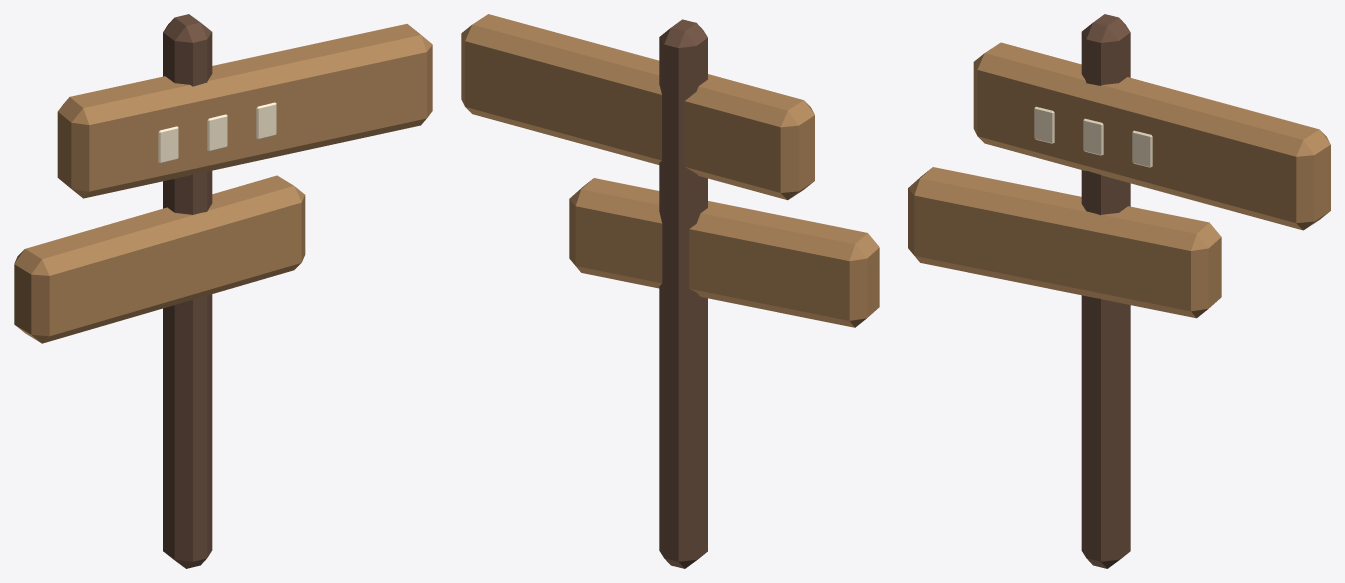
Rendered from signpost.glb.
The picture shows the model from 3 angles, left to right: view 1: azimuth 30°, elevation 25°; view 2: azimuth 150°, elevation 25°; view 3: azimuth 330°, elevation 25°; orthographic projection.
Parts seen in each view (by area): view 1: direction-sign, direction-sign.001, sign-post, painted-mark.002, painted-mark.001, painted-mark; view 2: direction-sign, direction-sign.001, sign-post; view 3: direction-sign, direction-sign.001, sign-post, painted-mark, painted-mark.001, painted-mark.002.
Part boxes in pixels (x1,y1,x2,y2): direction-sign: (57, 24, 432, 198); direction-sign.001: (14, 175, 305, 343); sign-post: (163, 14, 212, 568); painted-mark.002: (256, 102, 276, 139); painted-mark.001: (207, 114, 227, 151); painted-mark: (158, 126, 178, 163); direction-sign: (461, 14, 814, 200); direction-sign.001: (569, 178, 879, 327); sign-post: (659, 19, 707, 568); direction-sign: (973, 42, 1330, 230); direction-sign.001: (908, 167, 1221, 318); sign-post: (1081, 14, 1130, 568); painted-mark: (1034, 106, 1054, 143); painted-mark.001: (1083, 118, 1103, 155); painted-mark.002: (1132, 130, 1152, 167).
Bounding box in the file's own units: 1.41 × 1.8 × 0.243.
